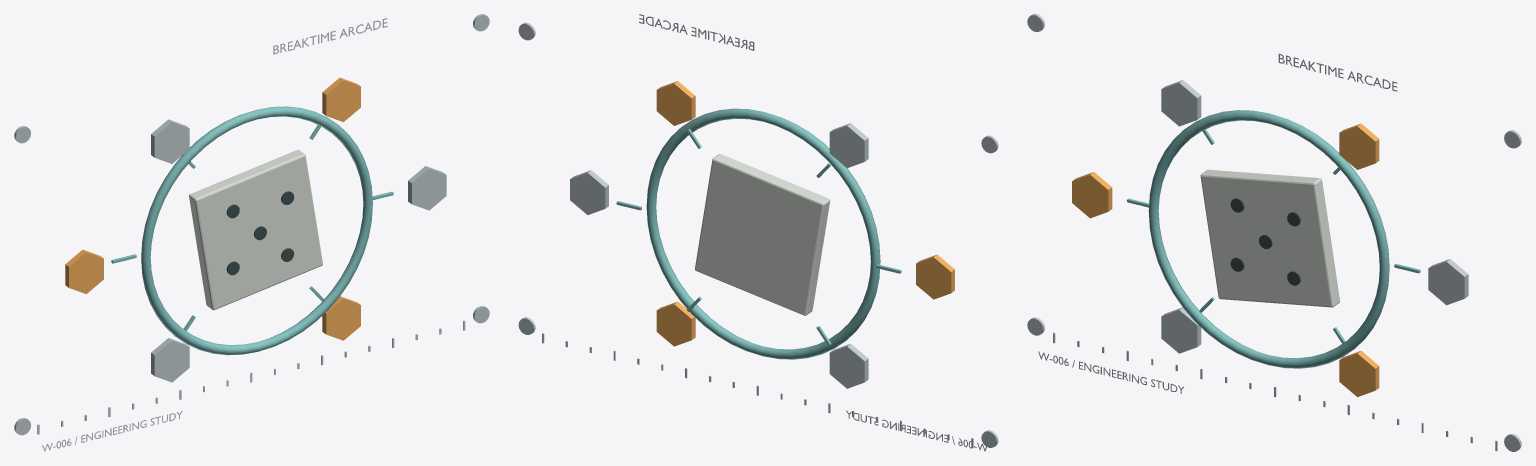
The model's file is breaktime.glb.
3 renders of one model, left to right at view 1: azimuth 30°, elevation 25°; view 2: azimuth 150°, elevation 25°; view 3: azimuth 330°, elevation 25°, orthographic. The views are drawn at different scales.
Parts seen in each view (by area): view 1: optical-core__Project_Ceramic.004, optical-lenses__Project_Trace.005, optical-core__Project_Silver.005, optical-core__Project_Amber.005, optical-lenses__Project_Silver.005, optical-core__Project_Graphite.005; view 2: optical-core__Project_Ceramic.004, optical-lenses__Project_Trace.005, optical-core__Project_Silver.005, optical-core__Project_Amber.005, optical-lenses__Project_Silver.005; view 3: optical-core__Project_Ceramic.004, optical-lenses__Project_Trace.005, optical-core__Project_Amber.005, optical-core__Project_Silver.005, optical-lenses__Project_Silver.005, optical-core__Project_Graphite.005.
Boxes of the visible parts, x1,y1,x2,y2 form: optical-core__Project_Ceramic.004: (189,150,322,310); optical-lenses__Project_Trace.005: (111,106,393,355); optical-core__Project_Silver.005: (151,119,446,382); optical-core__Project_Amber.005: (65,77,360,340); optical-lenses__Project_Silver.005: (14,14,489,451); optical-core__Project_Graphite.005: (226,191,294,275); optical-core__Project_Ceramic.004: (695,154,830,315); optical-lenses__Project_Trace.005: (616,108,901,359); optical-core__Project_Silver.005: (570,123,868,388); optical-core__Project_Amber.005: (656,81,954,346); optical-lenses__Project_Silver.005: (518,14,998,451); optical-core__Project_Ceramic.004: (1200,169,1339,307); optical-lenses__Project_Trace.005: (1127,110,1420,368); optical-core__Project_Amber.005: (1072,123,1379,396); optical-core__Project_Silver.005: (1161,80,1468,353); optical-lenses__Project_Silver.005: (1027,14,1521,451); optical-core__Project_Graphite.005: (1230,198,1300,285).
Bounding box in the file's own units: 4.01 × 2.83 × 0.144.
